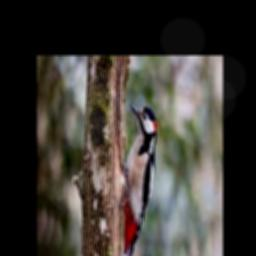Woodpecker: (119, 101, 156, 256)
